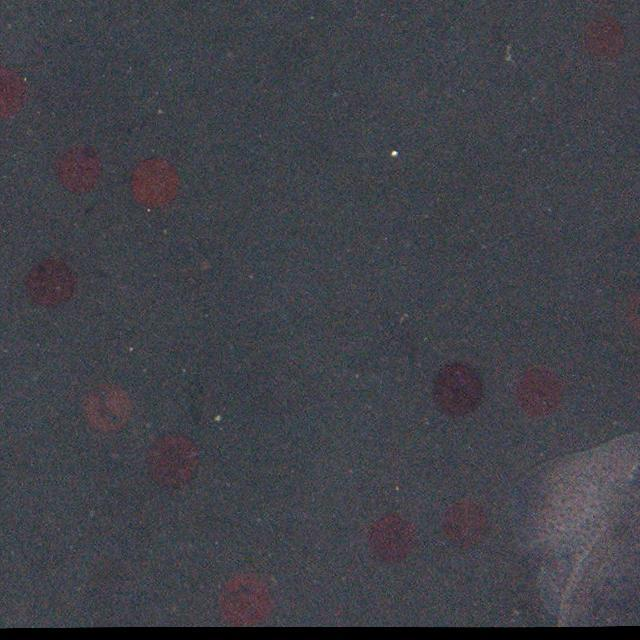skate: (491, 419, 640, 625)
